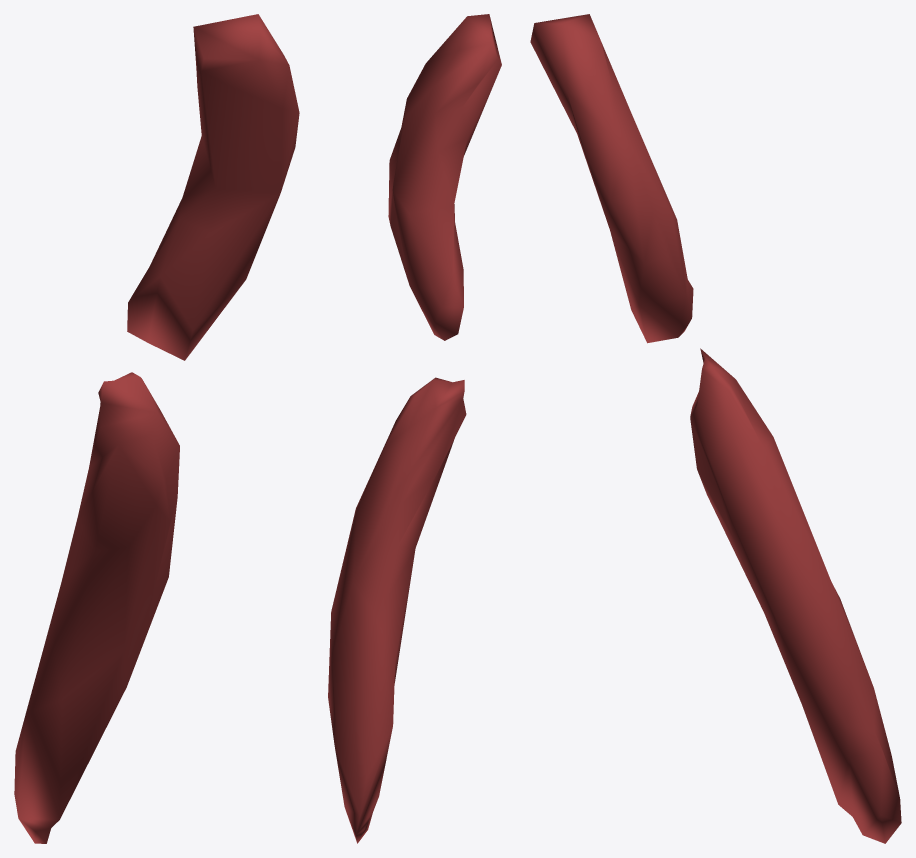
File: interspinales-thoracis-muscles-l.glb
3 renders of one model, left to right at view 1: azimuth 30°, elevation 25°; view 2: azimuth 150°, elevation 25°; view 3: azimuth 270°, elevation 25°, orthographic. The views are drawn at different scales.
Visible parts, largest first — view 1: Interspinales thoracis muscles.l; view 2: Interspinales thoracis muscles.l; view 3: Interspinales thoracis muscles.l.
Part boxes in pixels (left/top/right/bottom): Interspinales thoracis muscles.l: left=14, top=14, right=299, bottom=843; Interspinales thoracis muscles.l: left=328, top=14, right=501, bottom=843; Interspinales thoracis muscles.l: left=530, top=14, right=901, bottom=843.
Bounding box in the file's own units: 0.00704 × 0.0449 × 0.018.
